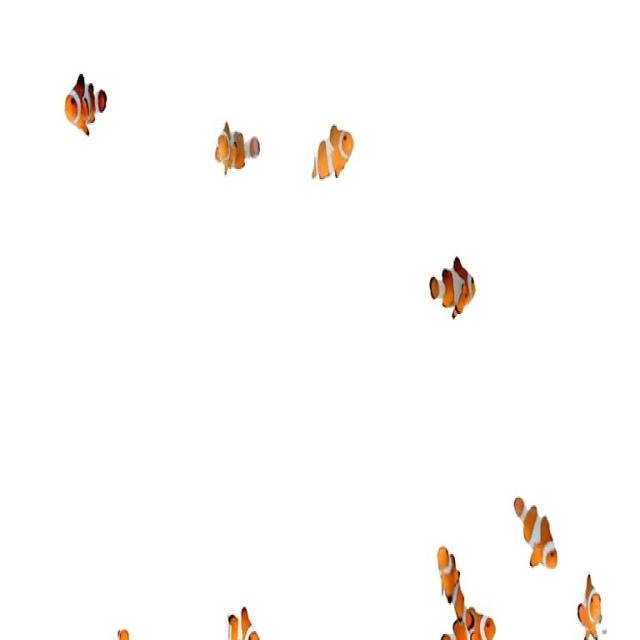fish: (514, 493, 559, 573), (306, 116, 356, 186), (428, 257, 478, 323), (212, 117, 261, 183), (61, 74, 108, 141), (575, 567, 609, 640), (436, 544, 467, 619), (438, 605, 498, 636)
